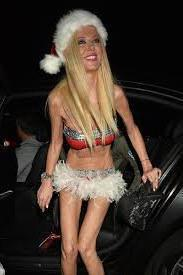Drunk: (77, 32, 101, 67)
